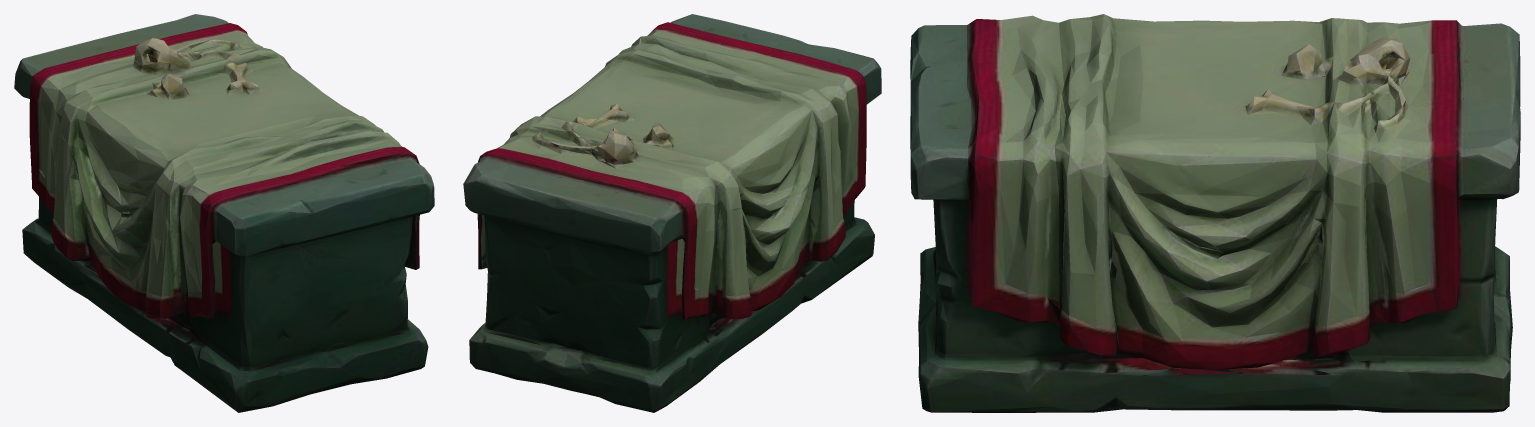
Rendered from altar_drowned.glb.
3 renders of one model, left to right at view 1: azimuth 30°, elevation 25°; view 2: azimuth 150°, elevation 25°; view 3: azimuth 270°, elevation 25°, orthographic. The views are drawn at different scales.
Parts seen in each view (by area): view 1: tripo_node_4a7d4df5-d315-43f4-bf05-aa8e18b569f1.001; view 2: tripo_node_4a7d4df5-d315-43f4-bf05-aa8e18b569f1.001; view 3: tripo_node_4a7d4df5-d315-43f4-bf05-aa8e18b569f1.001.
Part boxes in pixels (x1,y1,x2,y2): tripo_node_4a7d4df5-d315-43f4-bf05-aa8e18b569f1.001: (14, 14, 434, 412); tripo_node_4a7d4df5-d315-43f4-bf05-aa8e18b569f1.001: (463, 14, 881, 412); tripo_node_4a7d4df5-d315-43f4-bf05-aa8e18b569f1.001: (910, 14, 1520, 412).
Size of the model in its own units: 0.6167 by 0.5599 by 0.9999.
1 material, 1 textured.
